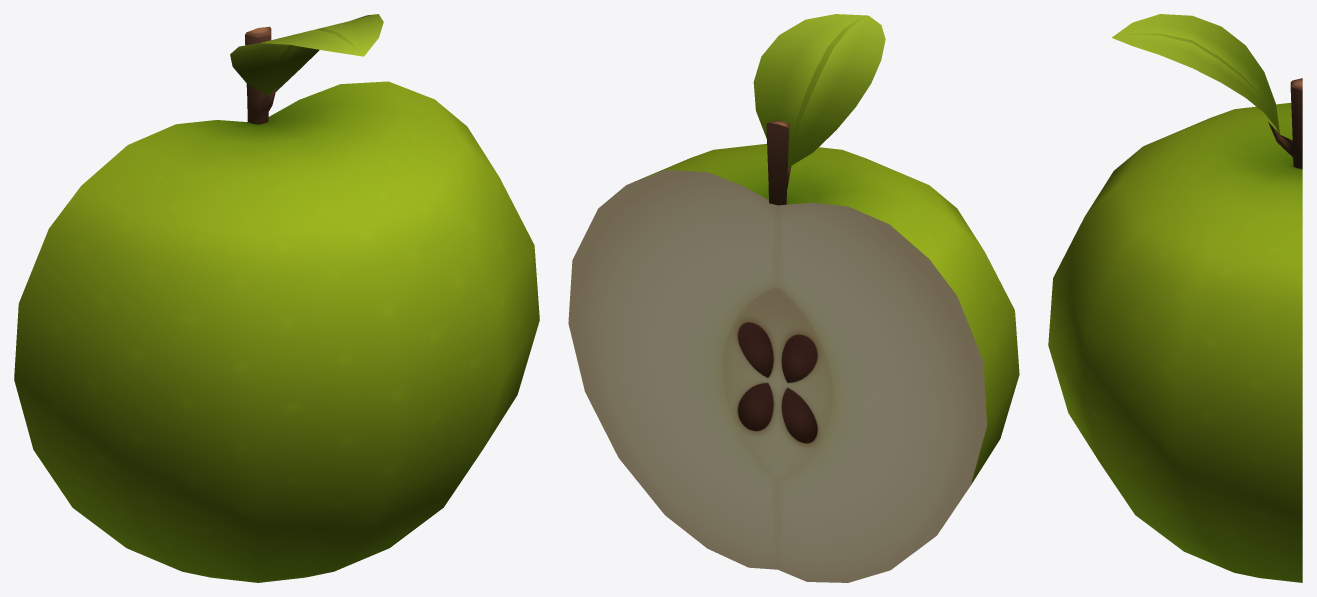
Rendered from Apple_G_Half_Back.fbx.
3 views of the same model, side by side, from view 1: azimuth 30°, elevation 25°; view 2: azimuth 150°, elevation 25°; view 3: azimuth 270°, elevation 25° (orthographic). The views are drawn at different scales.
Parts seen in each view (by area): view 1: Apple_G_Half_Back; view 2: Apple_G_Half_Back; view 3: Apple_G_Half_Back.
Part boxes in pixels (box(x1,y1,x2,y2)): Apple_G_Half_Back: box(14, 14, 539, 582); Apple_G_Half_Back: box(568, 14, 1019, 582); Apple_G_Half_Back: box(1048, 14, 1302, 582).
Bounding box in the file's own units: 1.66 × 1.88 × 0.8299.
